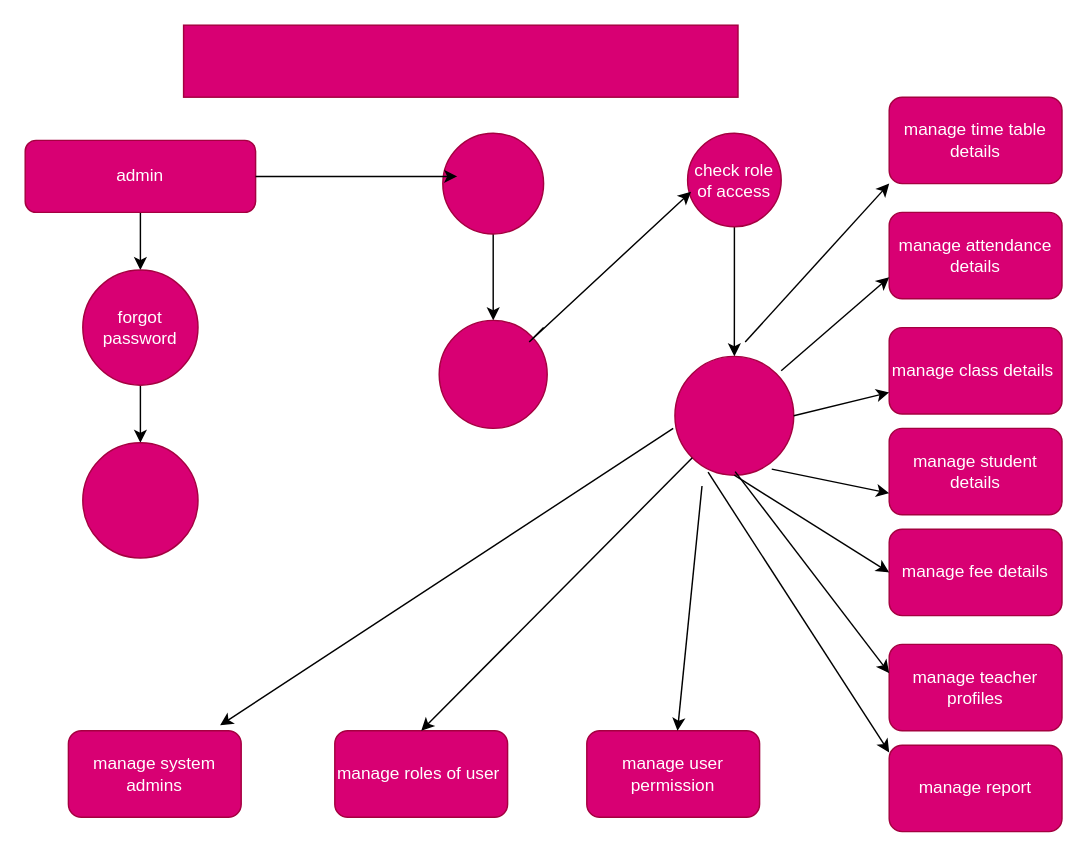
Image size: 1087x857. Some labels were removed from this diagram. The shapes that lost their labels are listed below. From the top down, each one's centre as x and y in pixels, then its label:
the point at 460,60: student information system
the point at 492,183: login to system
the point at 492,373: check credentials
the point at 733,415: manage modules
the point at 139,499: send email to user
